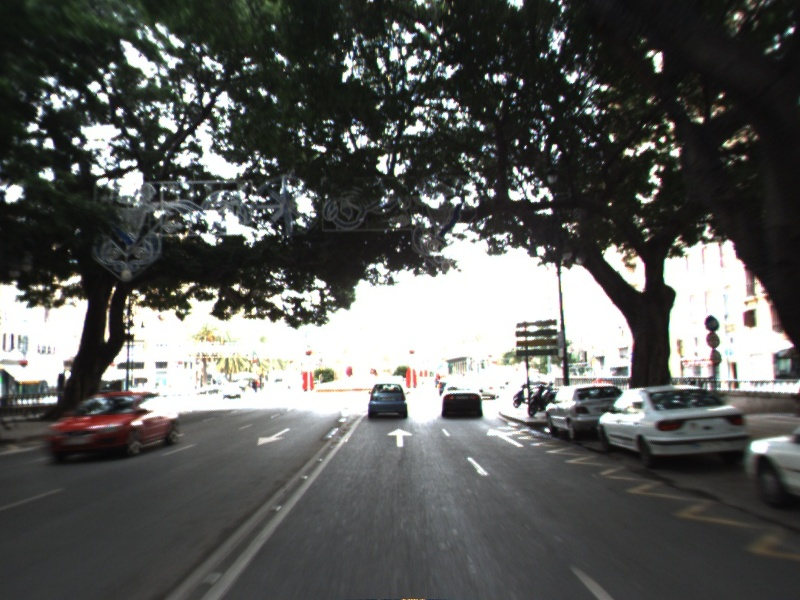STRAIGHT: (484, 426, 526, 449), (385, 426, 415, 448)
